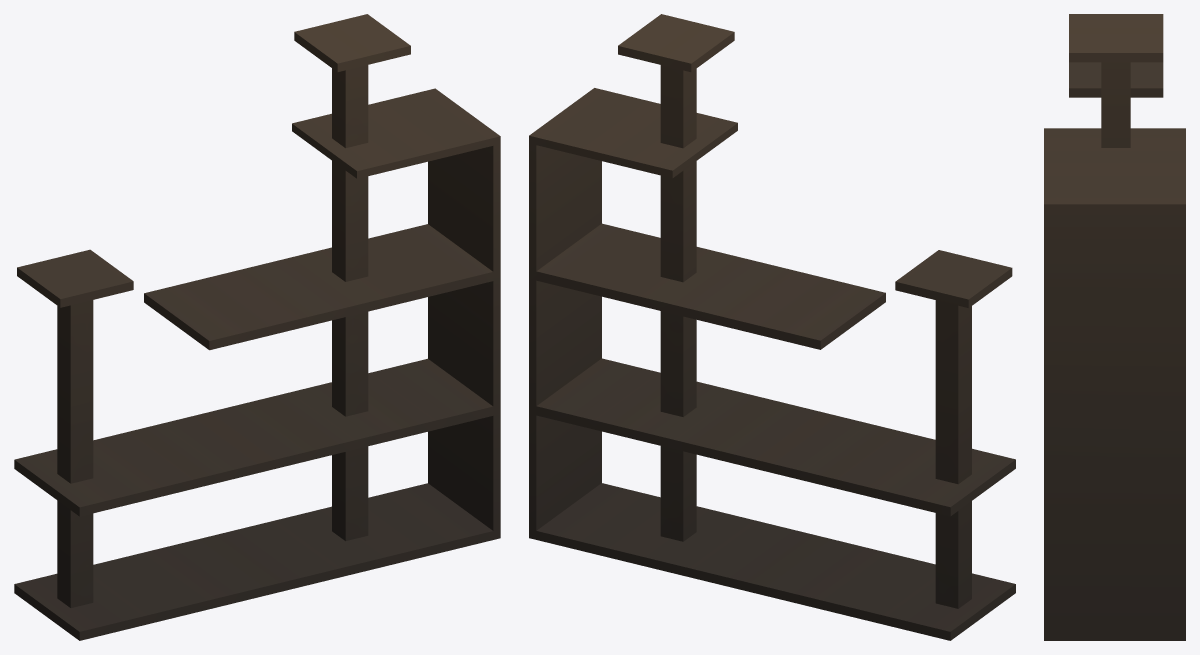
The model's file is Shelving_3Tier_Stylised_Brown.fbx.
The picture shows the model from 3 angles, left to right: view 1: azimuth 30°, elevation 25°; view 2: azimuth 150°, elevation 25°; view 3: azimuth 270°, elevation 25°; orthographic projection. The views are drawn at different scales.
Parts seen in each view (by area): view 1: Shelving_3Tier_Stylised_Brown; view 2: Shelving_3Tier_Stylised_Brown; view 3: Shelving_3Tier_Stylised_Brown.
Boxes of the visible parts, x1,y1,x2,y2 form: Shelving_3Tier_Stylised_Brown: [14, 14, 500, 640]; Shelving_3Tier_Stylised_Brown: [529, 14, 1015, 640]; Shelving_3Tier_Stylised_Brown: [1044, 14, 1185, 640].
Bounding box in the file's own units: 134 × 150 × 35.28.
